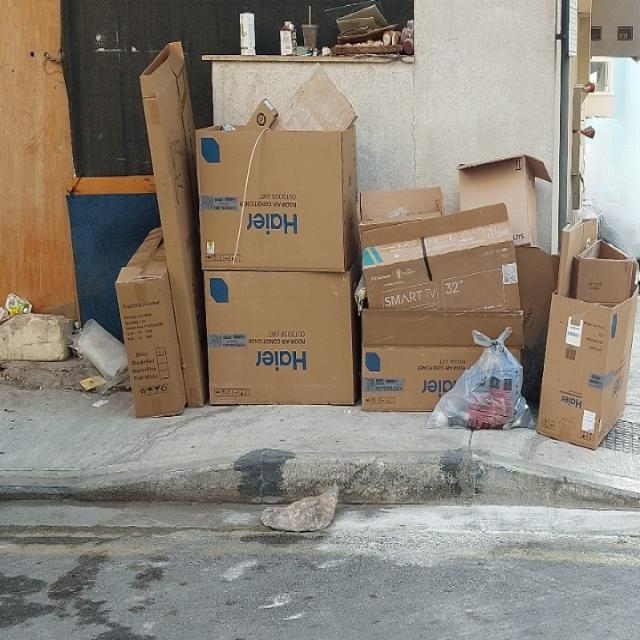Other: (141, 36, 207, 410), (197, 122, 357, 271), (201, 266, 362, 412), (361, 203, 523, 312), (537, 289, 640, 455), (361, 310, 531, 410), (118, 223, 188, 419), (510, 246, 562, 419), (455, 152, 545, 245), (273, 65, 359, 129), (352, 185, 446, 234), (333, 5, 417, 57), (577, 237, 640, 299), (555, 217, 601, 299), (73, 314, 130, 379), (233, 5, 258, 62), (300, 6, 321, 55), (277, 13, 299, 58), (244, 100, 280, 127), (5, 292, 33, 319), (78, 372, 107, 397), (323, 44, 332, 57)
Recycled Waste -Grey or Green Bag-: (428, 326, 538, 434)
